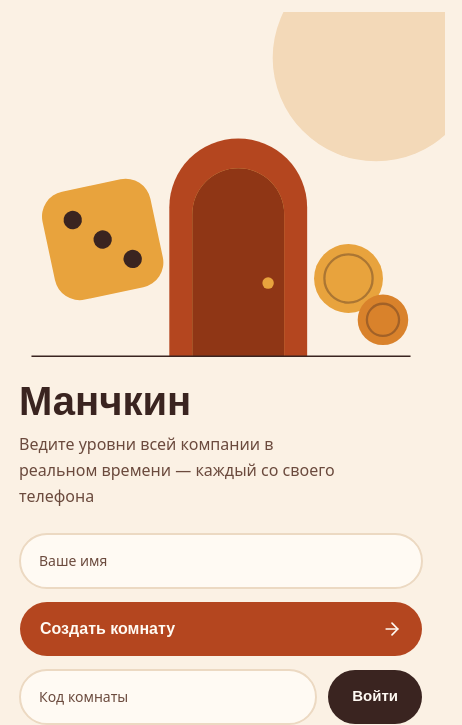
Test: HomePage › asks for a name first
Click the button "Создать комнату". click: (108, 628)
box: top-left (19, 601), bottom-right (423, 657)
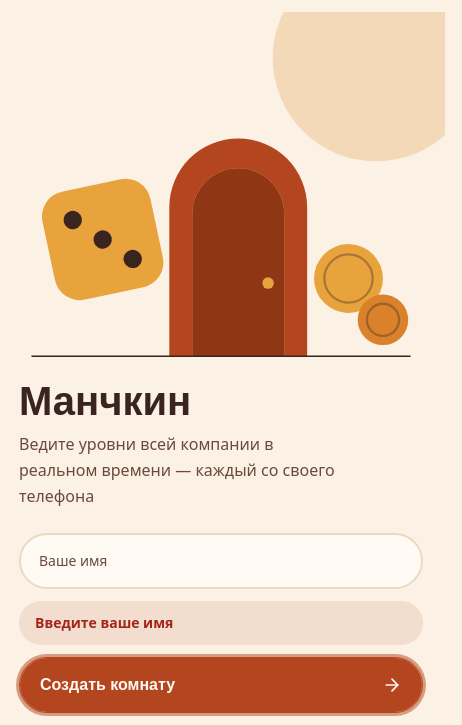
expect the message reads "Введите ваше имя": met, box top-left (35, 613), bottom-right (173, 632)
